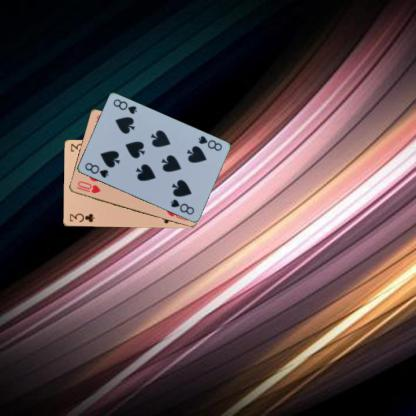10h: (73, 178, 102, 194)
3c: (67, 211, 95, 223)
8s: (82, 160, 110, 179), (195, 133, 223, 152)
